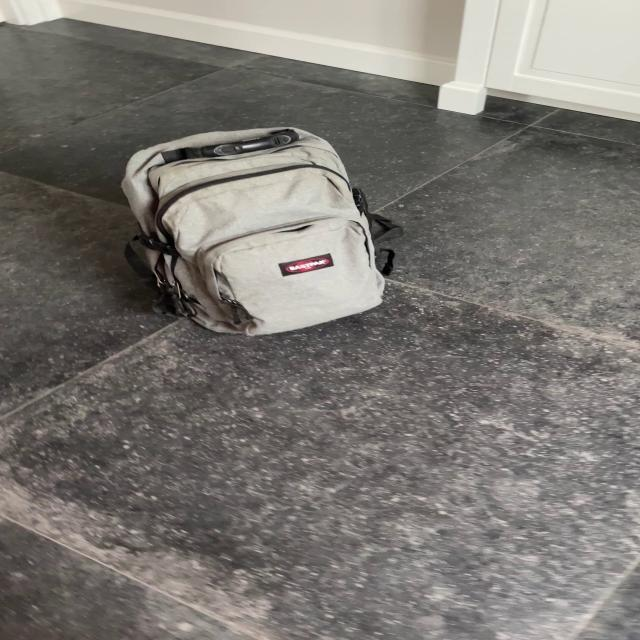backpack: (110, 120, 398, 340)
